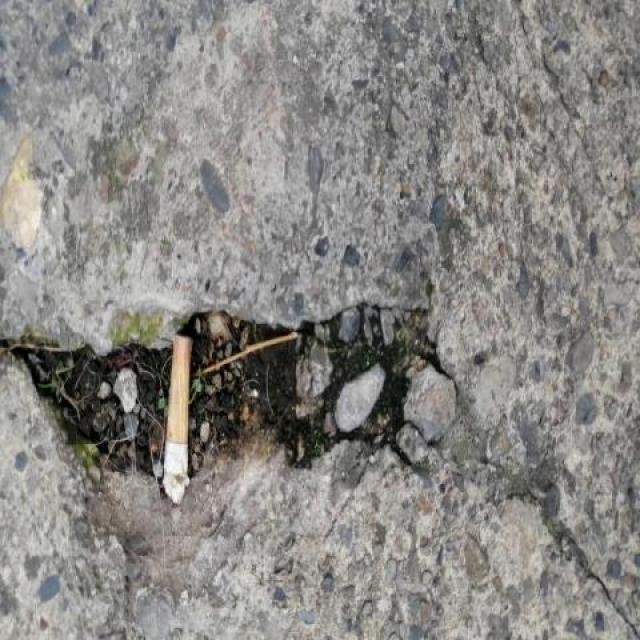non-organic waste: (156, 328, 196, 481)
